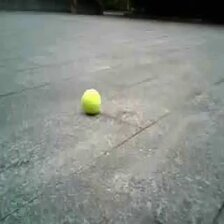tennis: (83, 89, 100, 112)
